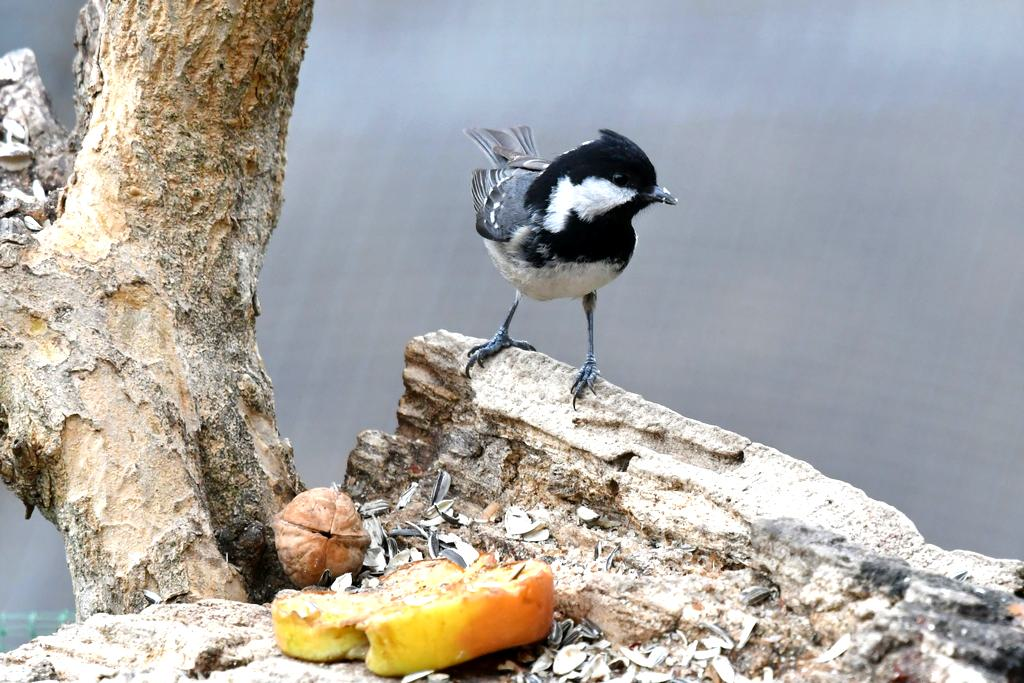PeriparusAter: (463, 123, 680, 417)
